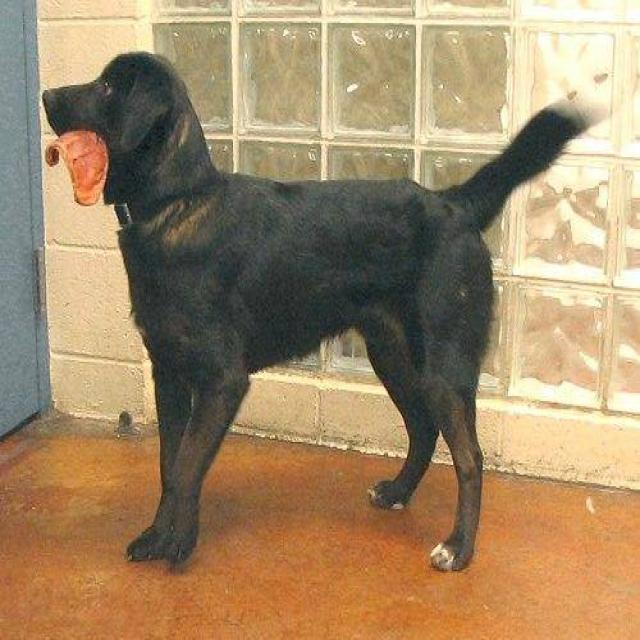dog: (33, 30, 618, 596)
